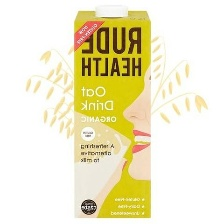carton: (64, 4, 157, 220)
